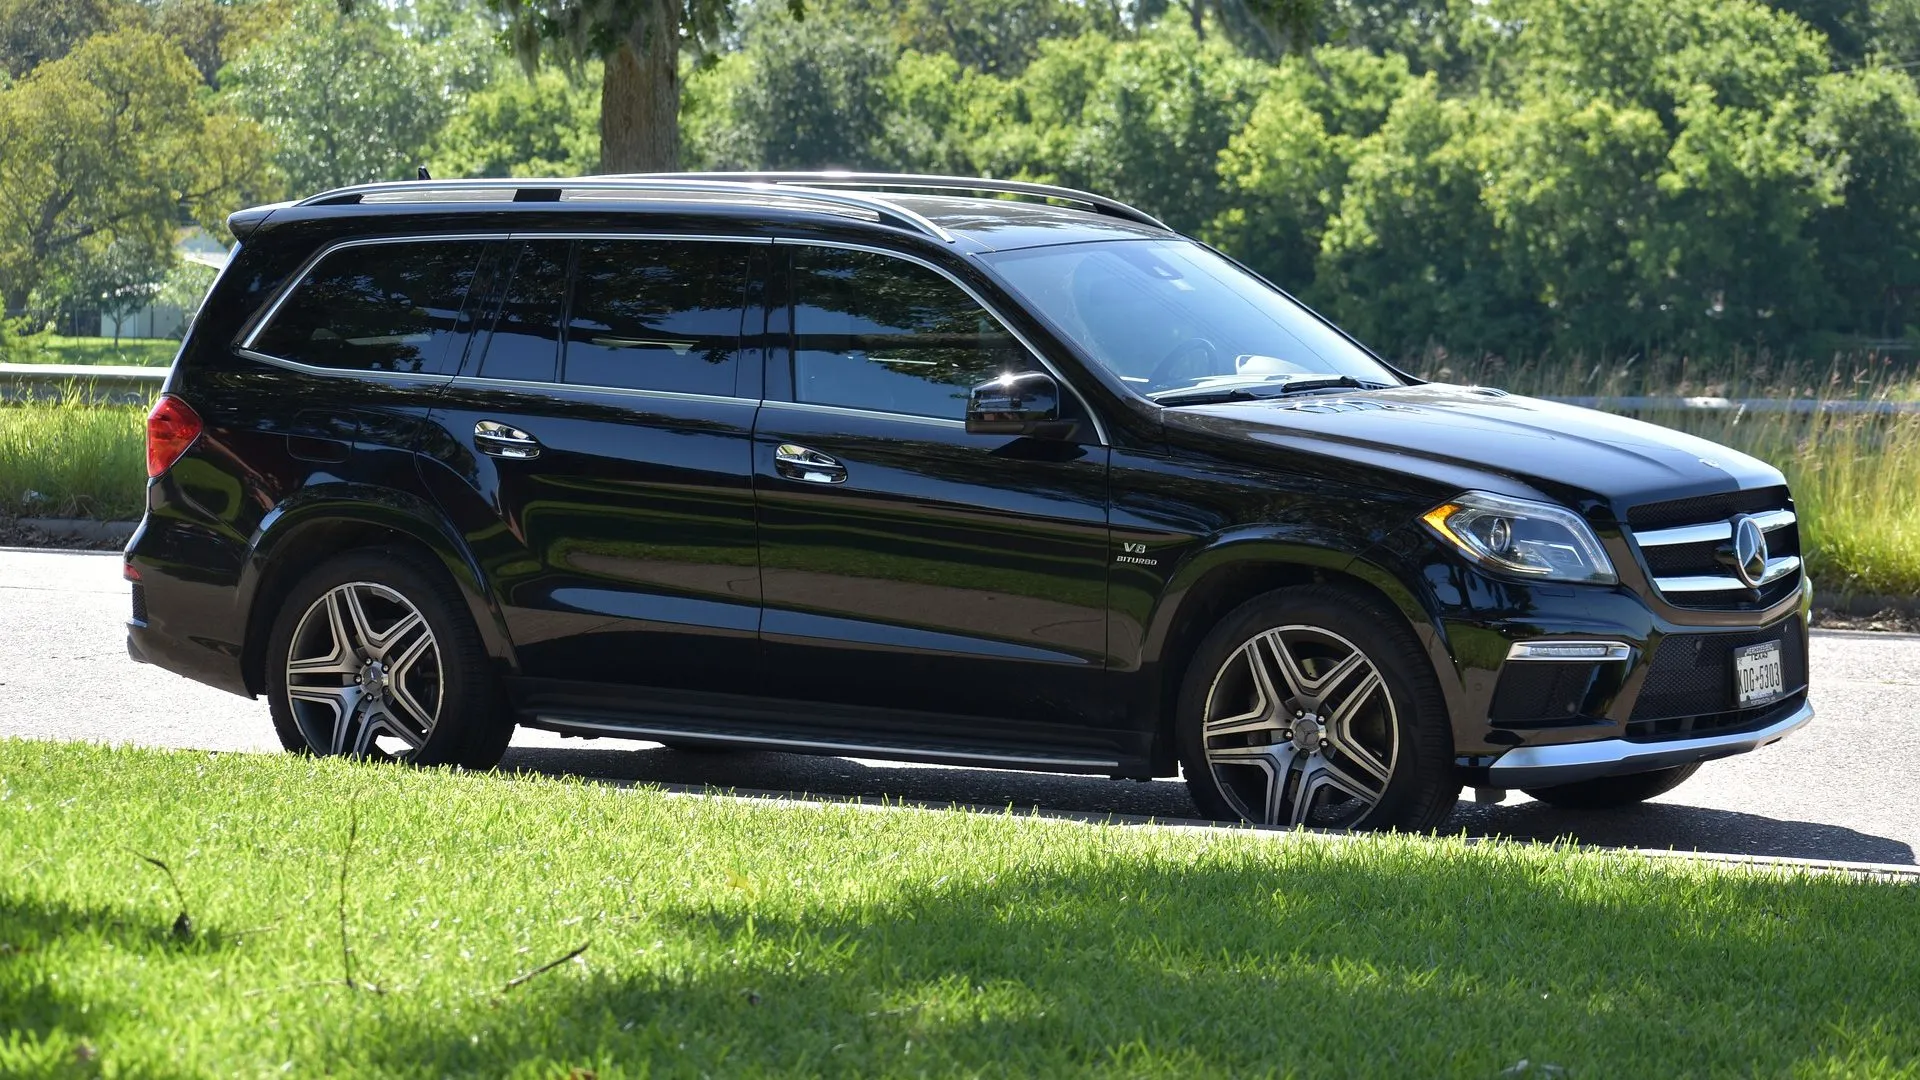car: (117, 158, 1824, 856)
